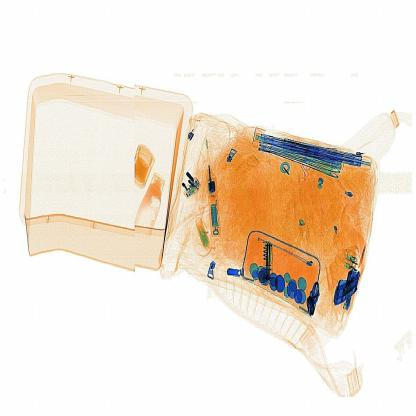scissors: (249, 231, 280, 294)
